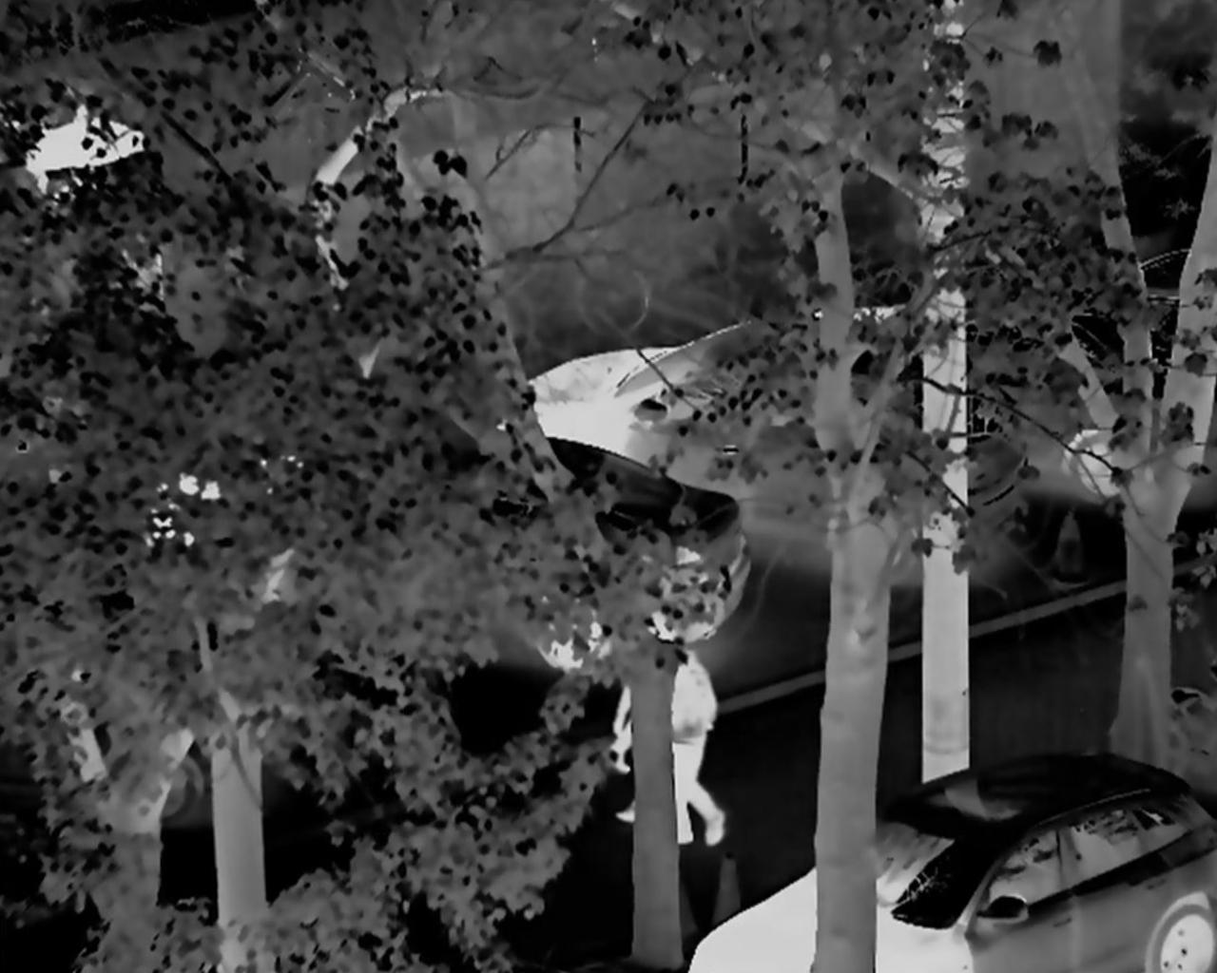person: (663, 627, 729, 852), (599, 657, 666, 834)
